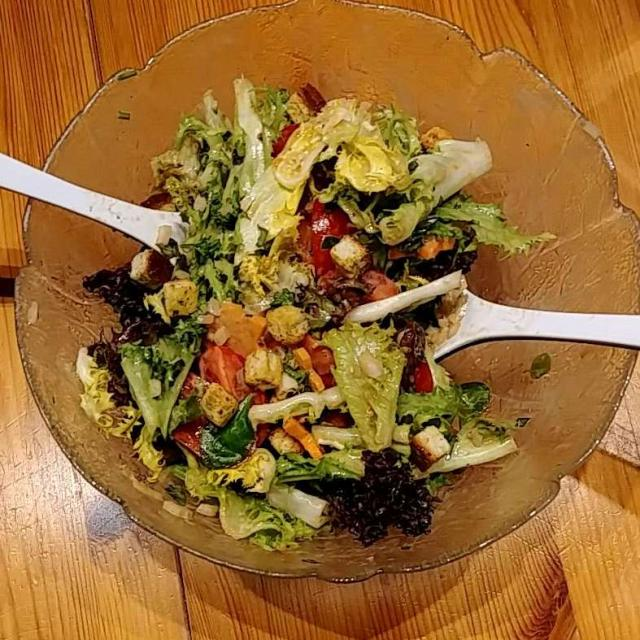salad-leaf-salad-green: (109, 90, 486, 549)
tomato-raw: (206, 194, 353, 402)
